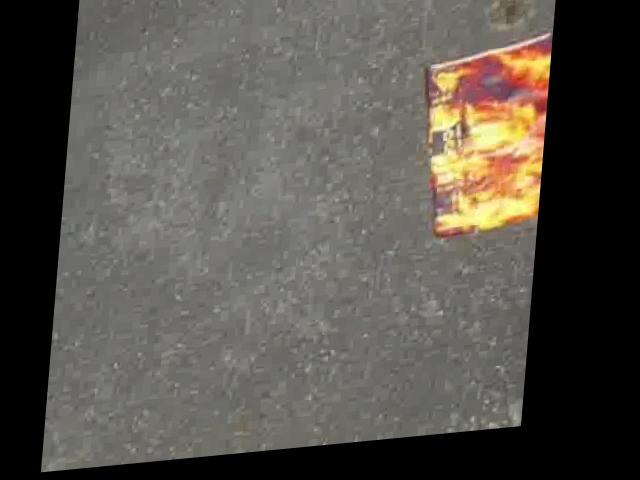fire-poster: (417, 45, 554, 246)
